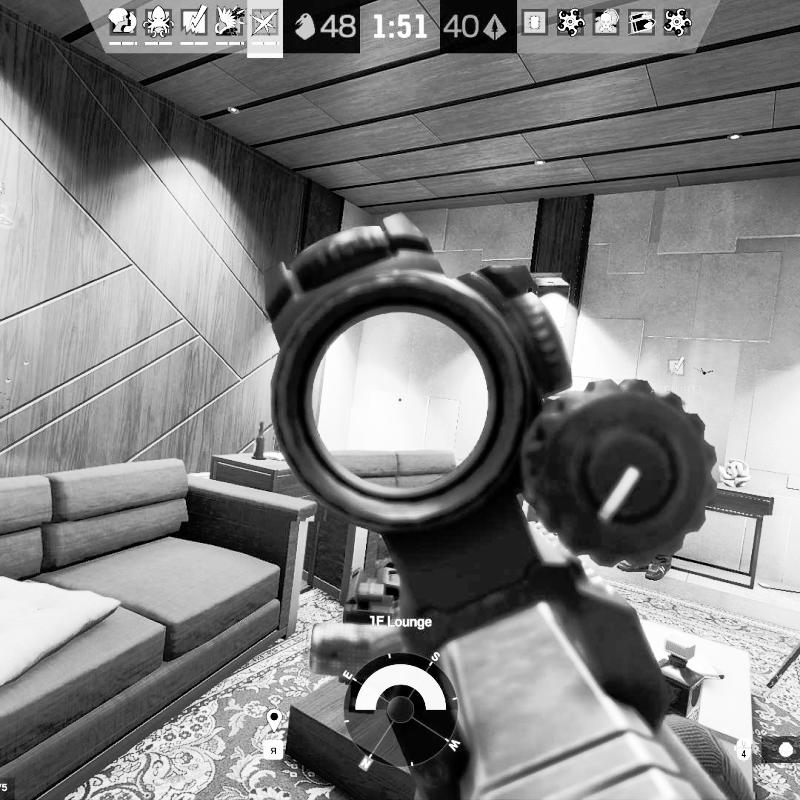Friend_label: (650, 354, 704, 396)
